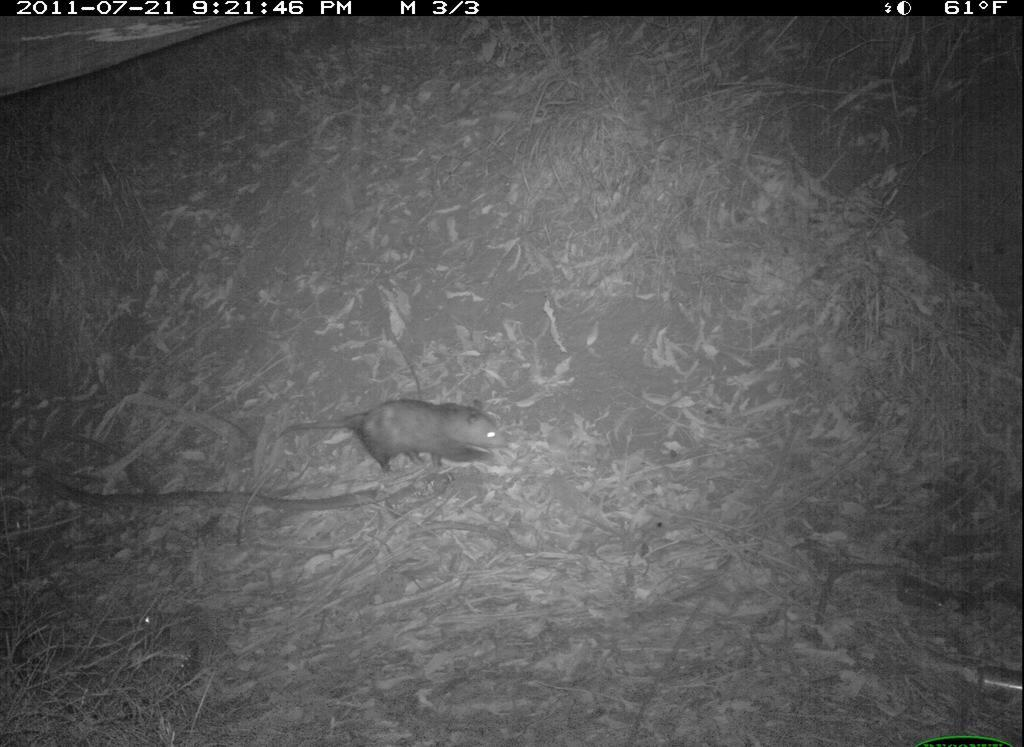opossum: (257, 389, 520, 493)
